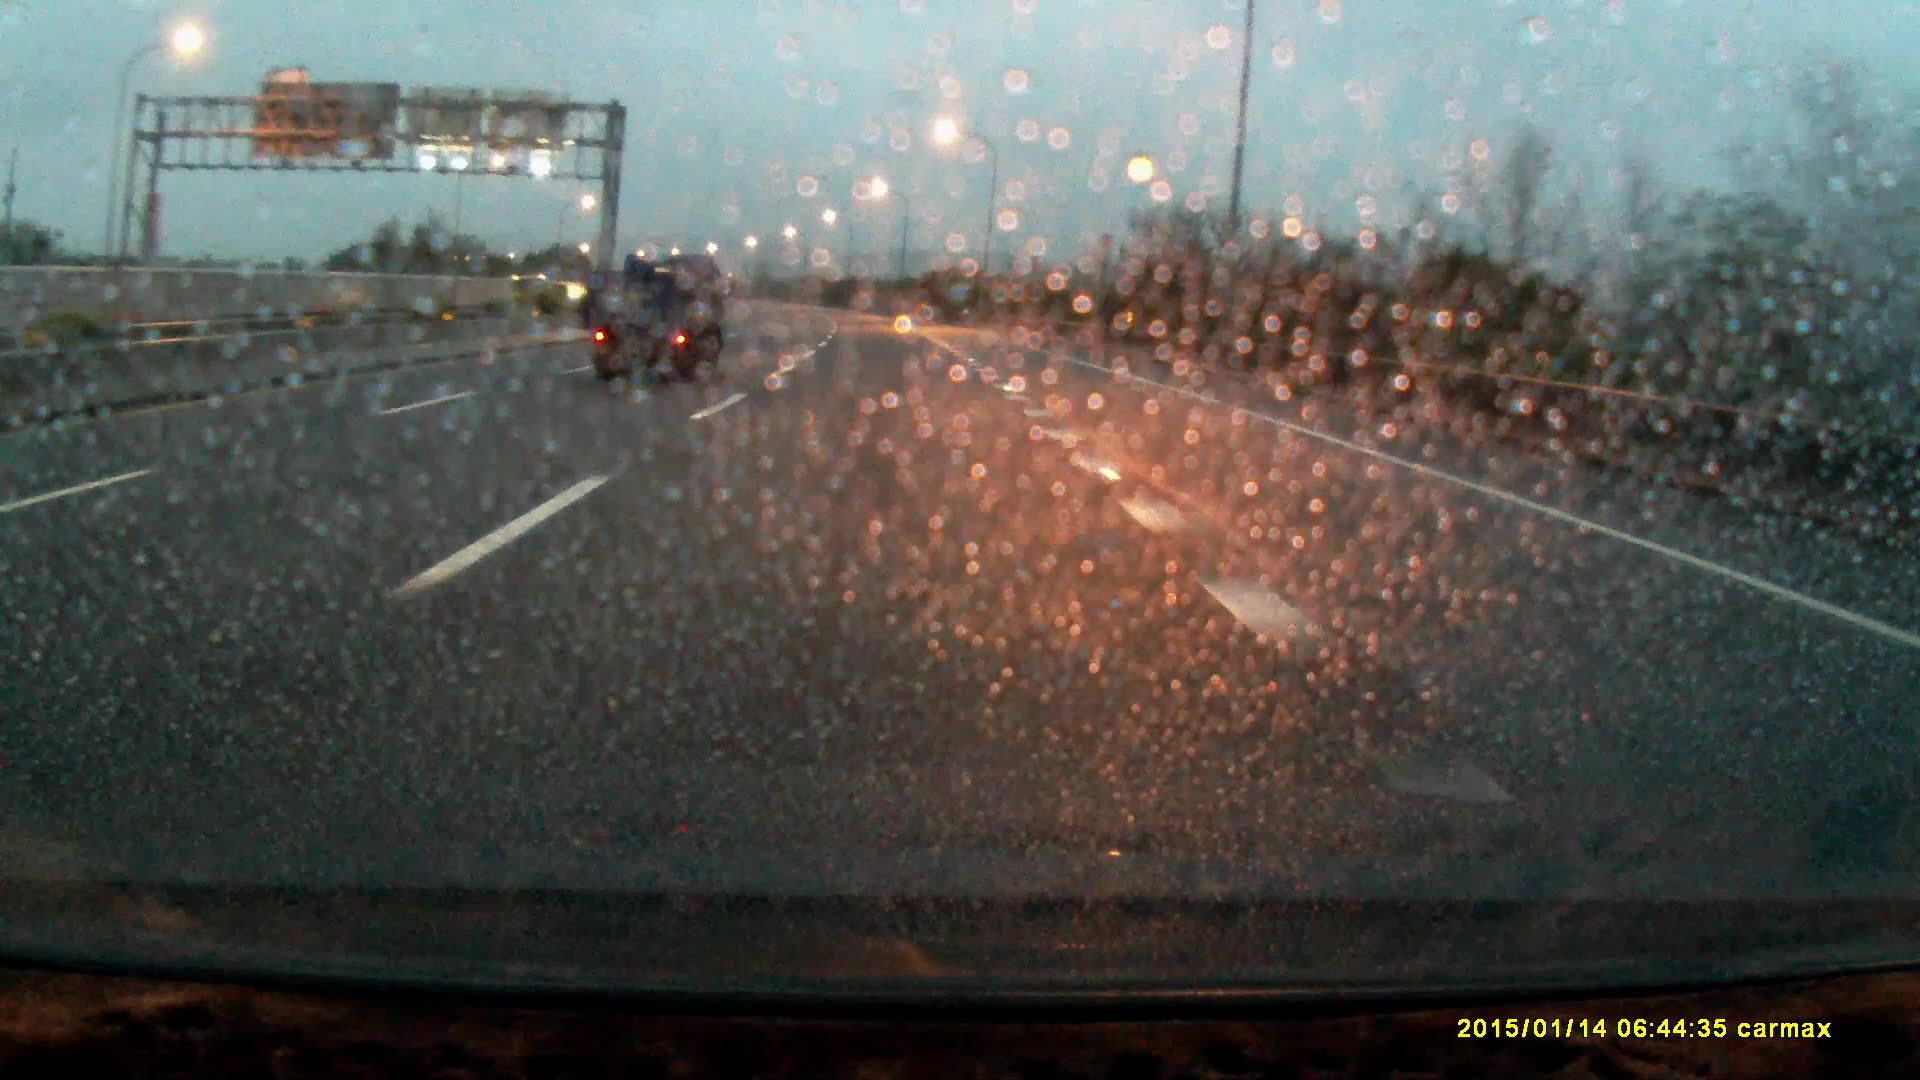vehicle: (585, 255, 729, 381), (510, 276, 579, 310)
